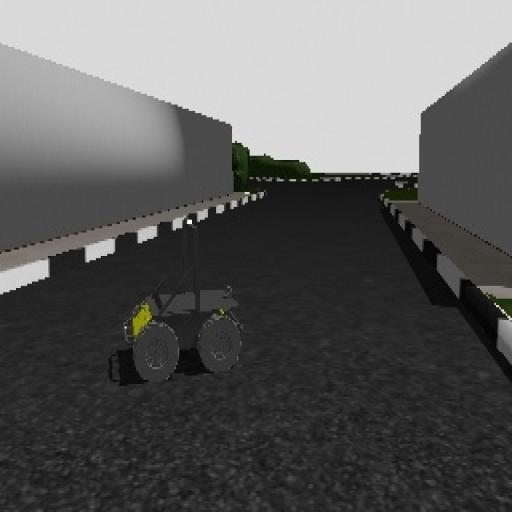huskya200: (121, 202, 252, 400)
